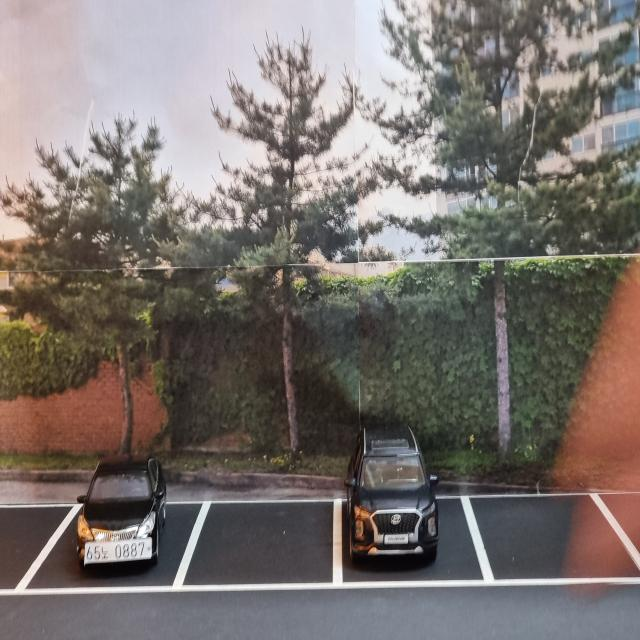empty: (464, 495, 640, 588), (181, 498, 349, 586), (0, 500, 63, 590)
occupied: (348, 428, 447, 570), (73, 452, 167, 569)
